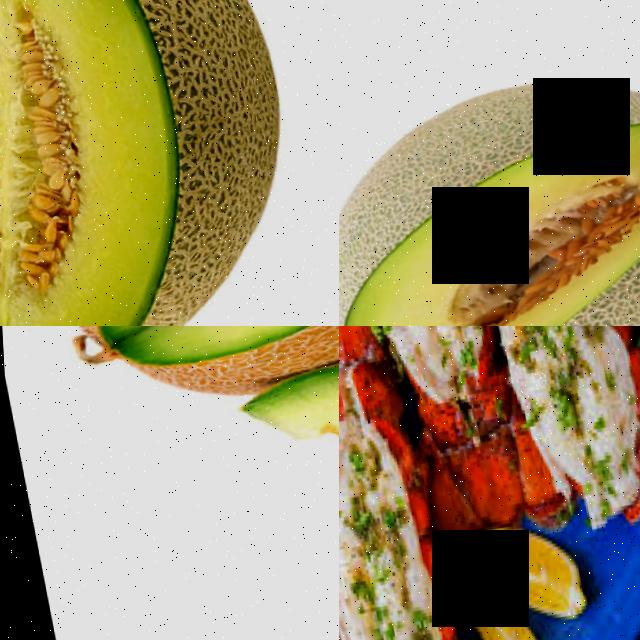lobster tails: (444, 326, 640, 546), (347, 326, 534, 543), (339, 326, 451, 640)
melon: (0, 0, 324, 326), (339, 40, 640, 326), (12, 326, 339, 414)
